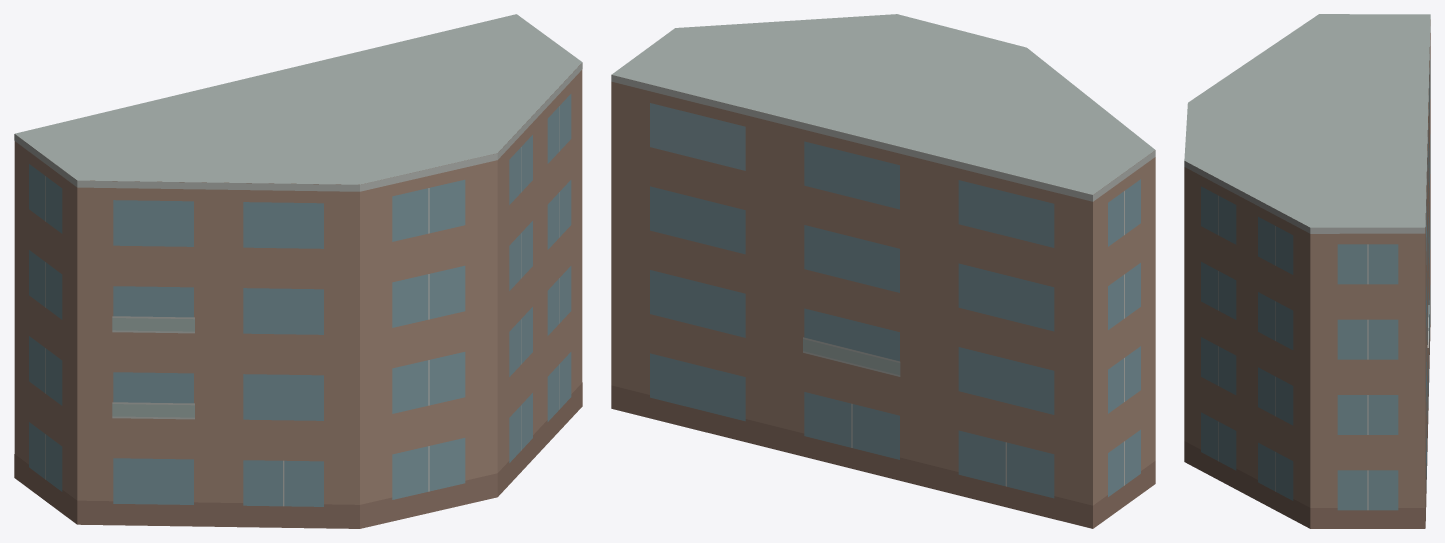
Rendered from survey-upis-32714822.glb.
3 views of the same model, side by side, from view 1: azimuth 30°, elevation 25°; view 2: azimuth 150°, elevation 25°; view 3: azimuth 270°, elevation 25° (orthographic). The views are drawn at different scales.
Parts seen in each view (by area): view 1: survey-upis-32714822.tmp; view 2: survey-upis-32714822.tmp; view 3: survey-upis-32714822.tmp.
Part boxes in pixels (<box>): survey-upis-32714822.tmp: <box>14,14,582,528</box>; survey-upis-32714822.tmp: <box>611,14,1155,528</box>; survey-upis-32714822.tmp: <box>1184,14,1430,528</box>.
Size of the model in its own units: 18.11 by 11.9 by 8.83.
